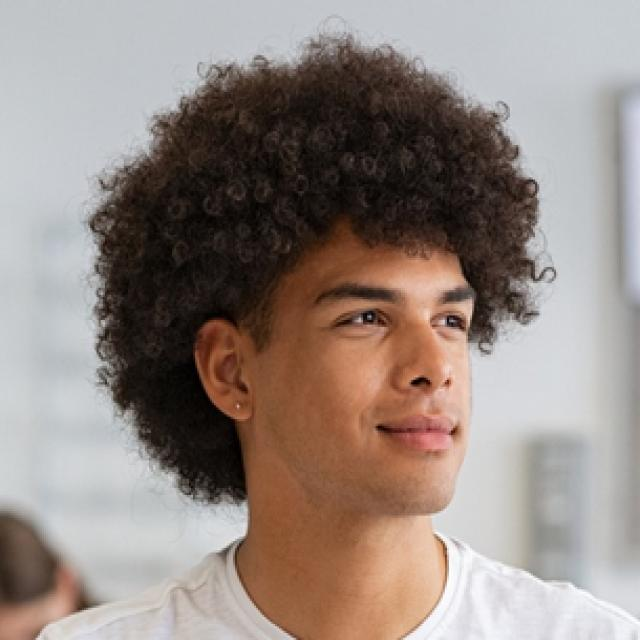Attentive: (212, 234, 478, 518)
